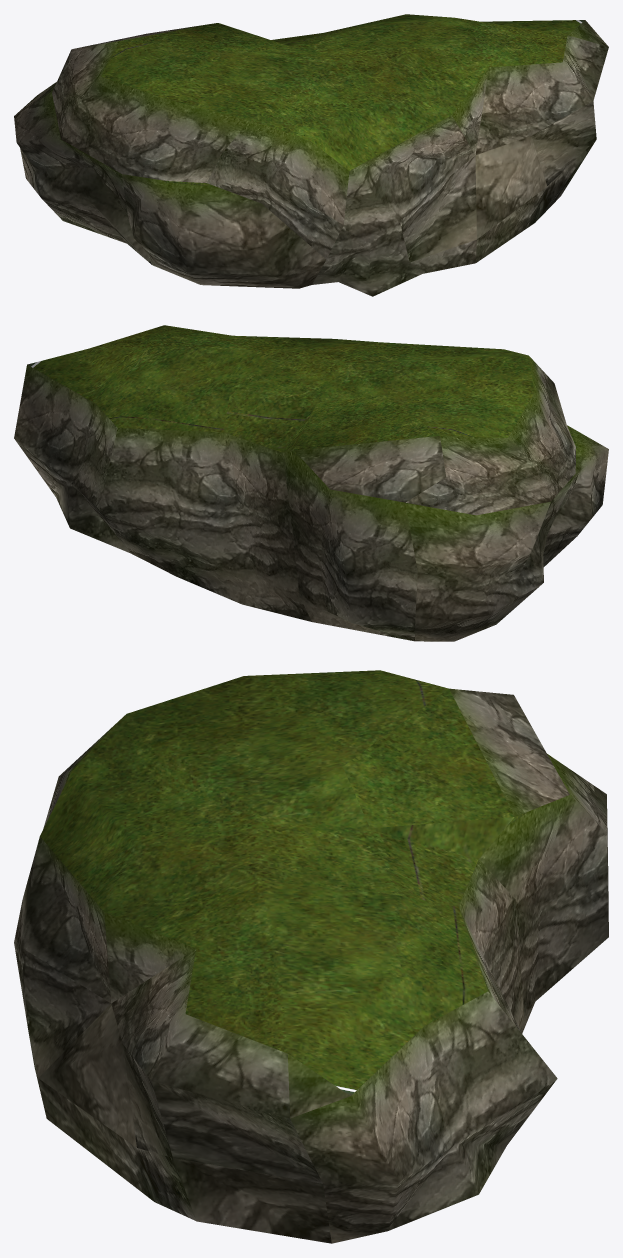
File: Yland1_st_04 Yland1.FBX
3 renders of one model, top to bottom at view 1: azimuth 30°, elevation 25°; view 2: azimuth 150°, elevation 25°; view 3: azimuth 270°, elevation 25°, orthographic. The views are drawn at different scales.
Visible parts, largest first — view 1: Yland1_st_04 Yland1; view 2: Yland1_st_04 Yland1; view 3: Yland1_st_04 Yland1.
Part boxes in pixels (bbox=[...]): Yland1_st_04 Yland1: bbox=[14, 14, 608, 296]; Yland1_st_04 Yland1: bbox=[14, 325, 608, 641]; Yland1_st_04 Yland1: bbox=[14, 670, 608, 1243].
Bounding box in the file's own units: 3.14 × 1.08 × 2.03.
